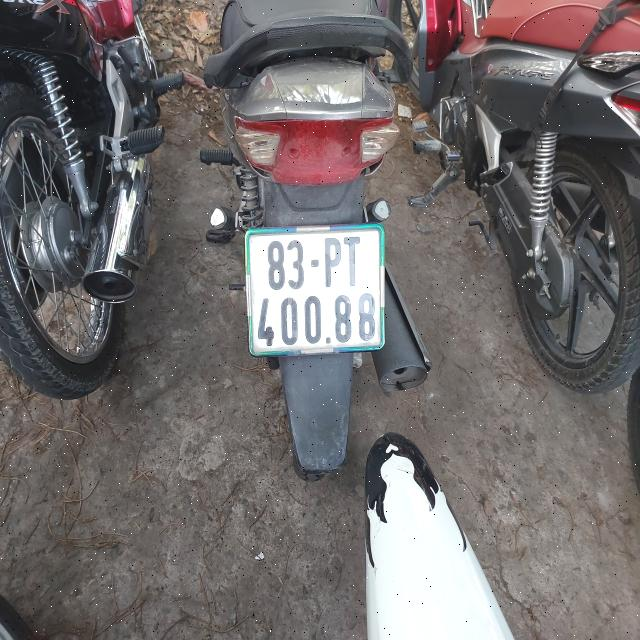0: (280, 294, 300, 344), (306, 297, 322, 342)
3: (286, 240, 304, 290)
4: (256, 300, 278, 346)
8: (266, 238, 286, 290), (332, 298, 353, 343), (358, 290, 374, 338)
P: (324, 237, 343, 286)
T: (342, 236, 362, 285)
